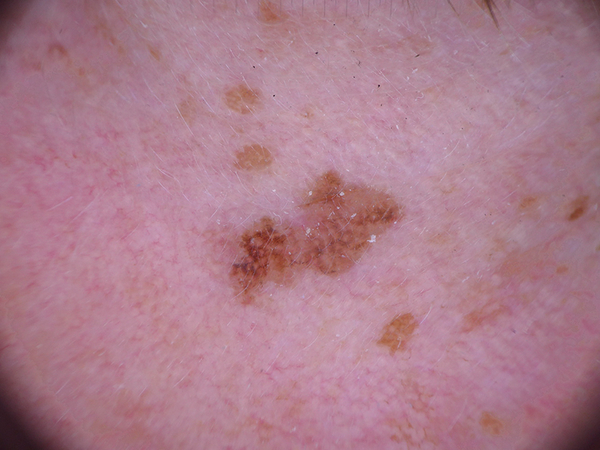Detected Lesion: (221, 169, 408, 304)
